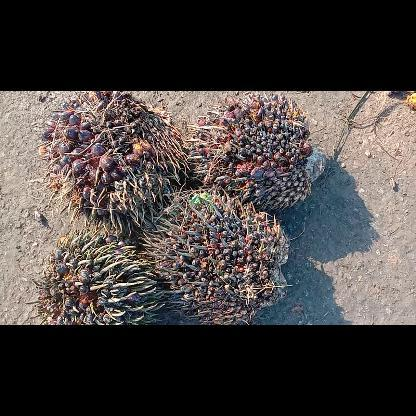TBS abnormal: (137, 182, 293, 324), (186, 91, 330, 211), (22, 216, 171, 324)
TBS masak: (34, 91, 194, 243)
